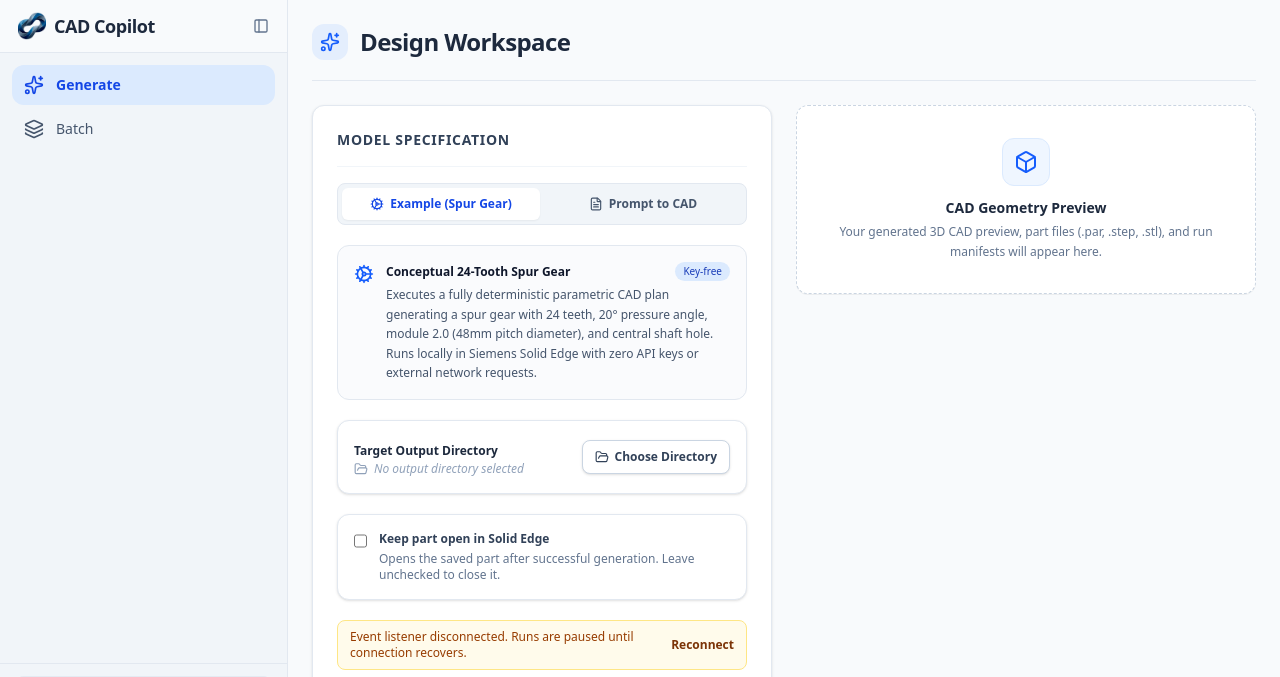
Test: useBatch controller lifecycle & error resilience › does not display in-progress close confirmation modal when batch run is in terminal state
// Switch to Batch tab
Click the button "Batch" at point(75, 128), box 12,109 -> 275,149
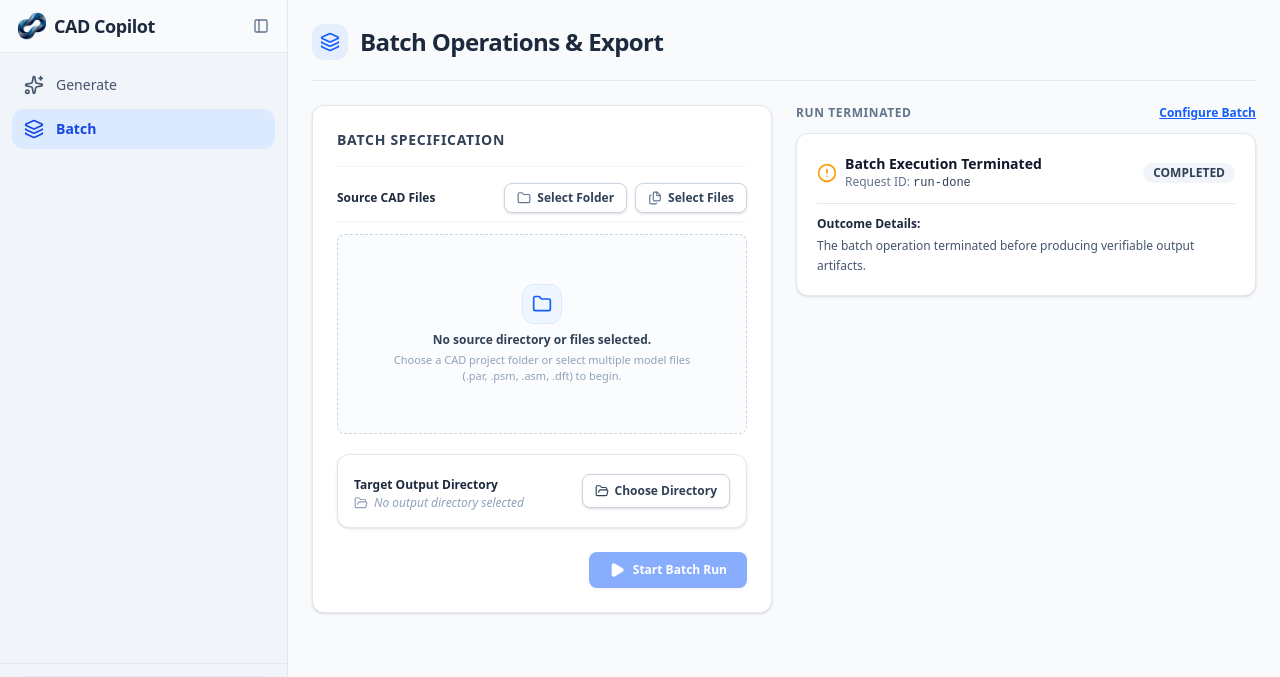
Result: the text "run-done" is shown at 913,176 -> 971,190
Result: the heading "Batch Execution Terminated" is shown at 845,154 -> 1042,174
